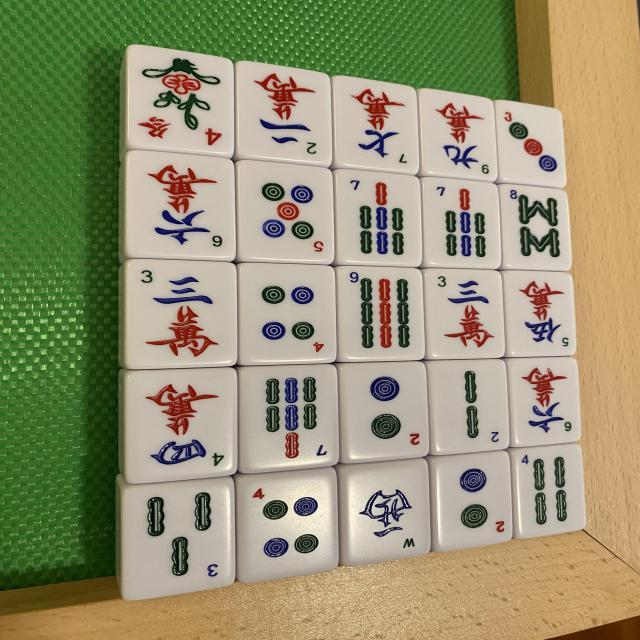bs4: (133, 51, 230, 148)
hww: (352, 472, 422, 552)
sb2: (431, 362, 510, 457)
sb3: (130, 492, 225, 584)
sb4: (516, 442, 587, 538)
sb7: (239, 366, 336, 474), (338, 166, 425, 264), (422, 175, 495, 266)
sb8: (499, 184, 568, 272)
sb9: (336, 264, 422, 361)
sc2: (237, 64, 332, 168)
sc3: (130, 266, 230, 361), (423, 267, 501, 359)
sc4: (122, 368, 235, 486)
sc5: (507, 274, 578, 360)
sc6: (128, 150, 236, 260), (512, 358, 582, 449)
sc7: (334, 80, 418, 176)
sc9: (419, 94, 494, 184)
sd2: (341, 362, 428, 463), (436, 454, 514, 547)
sd3: (496, 102, 564, 186)
sd4: (238, 262, 336, 366)
sd5: (240, 476, 338, 587), (238, 154, 334, 262)
